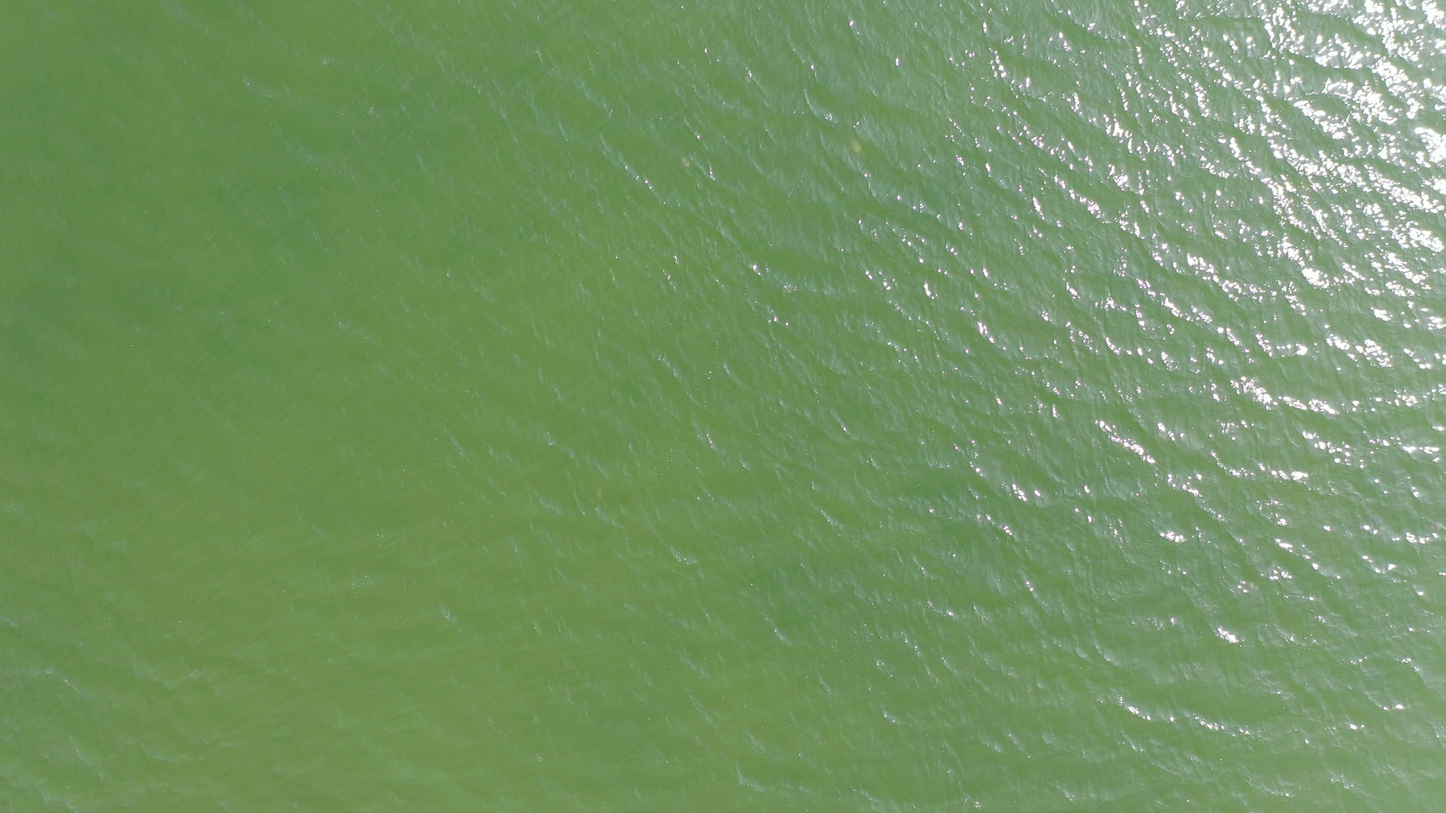meduse: (851, 140, 863, 153), (682, 157, 691, 167), (1159, 432, 1167, 441), (598, 487, 603, 498)
